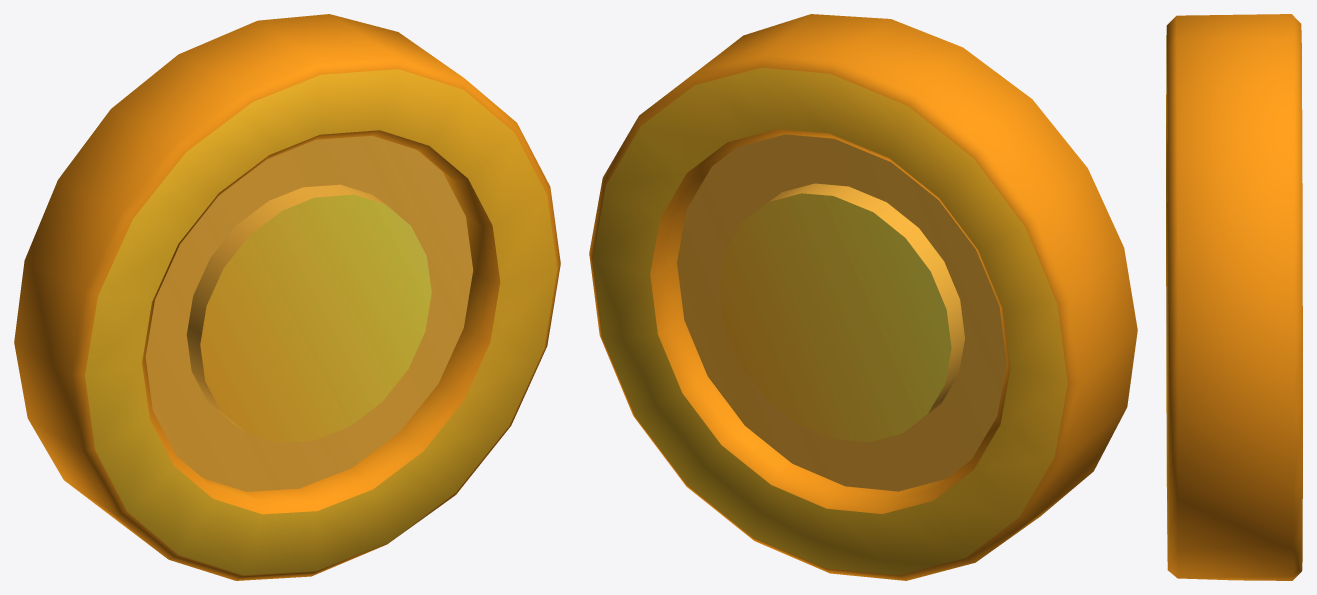
Rendered from coin.fbx.
The picture shows the model from 3 angles, left to right: view 1: azimuth 30°, elevation 25°; view 2: azimuth 150°, elevation 25°; view 3: azimuth 270°, elevation 25°; orthographic projection.
Visible parts, largest first — view 1: Coin; view 2: Coin; view 3: Coin.
Boxes of the visible parts, x1,y1,x2,y2 form: Coin: (14,14,560,580); Coin: (589,14,1137,580); Coin: (1166,14,1302,580).
Bounding box in the file's own units: 1.45 × 1.44 × 0.347.
1 material, 1 textured.
